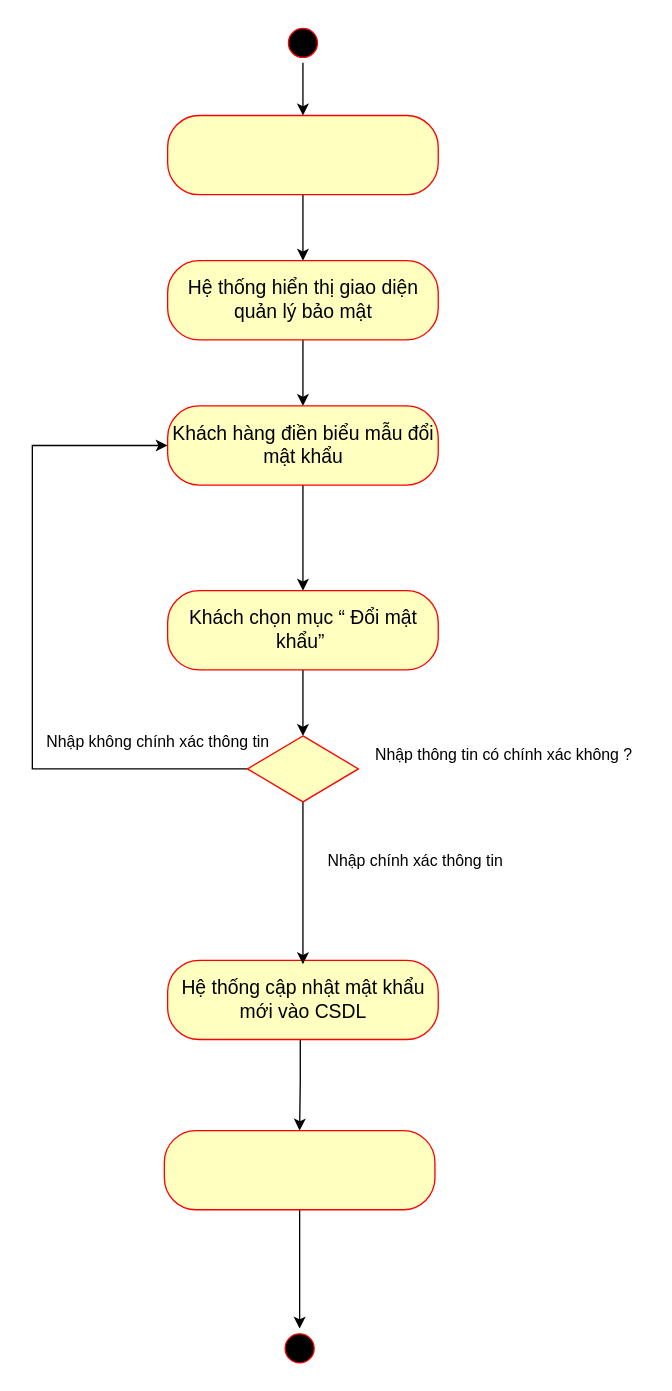
Some shapes in this 672 by 1391 pixel diagram are drawn without their labels. The shapes that lost their labels are listed below. From the top down, each one's centre as x and y in pixels, then its label:
point (302, 154): Khách hàng truy cập Edit Security Settings
point (299, 1169): Hệ thống thông báo đổi mật khẩu thành công
